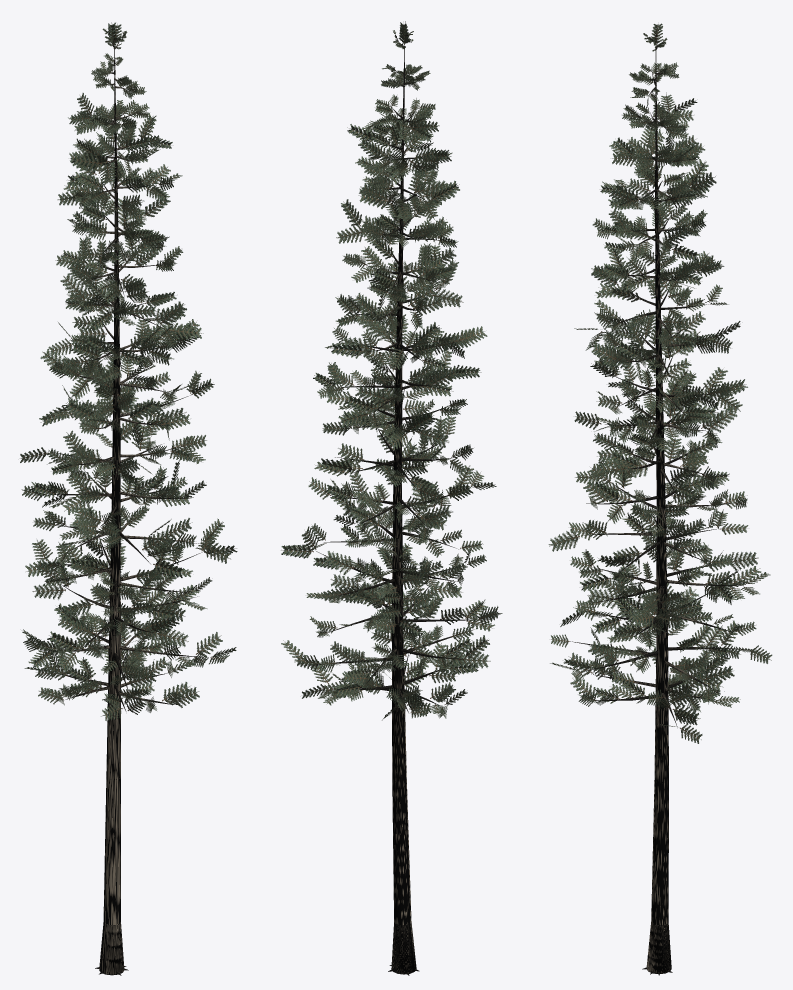
Rendered from Sitka_Mature_02_Unpruned_LOD1.fbx.
3 views of the same model, side by side, from view 1: azimuth 30°, elevation 25°; view 2: azimuth 150°, elevation 25°; view 3: azimuth 270°, elevation 25° (orthographic).
Parts seen in each view (by area): view 1: Sitka_Mature_02_Unpruned_LOD1; view 2: Sitka_Mature_02_Unpruned_LOD1; view 3: Sitka_Mature_02_Unpruned_LOD1.
Part boxes in pixels (x1,y1,x2,y2): Sitka_Mature_02_Unpruned_LOD1: [20, 22, 237, 975]; Sitka_Mature_02_Unpruned_LOD1: [281, 21, 502, 975]; Sitka_Mature_02_Unpruned_LOD1: [548, 23, 772, 975].
Bounding box in the file's own units: 614 × 2600 × 589.
Materials: 2 (2 with a texture image).
